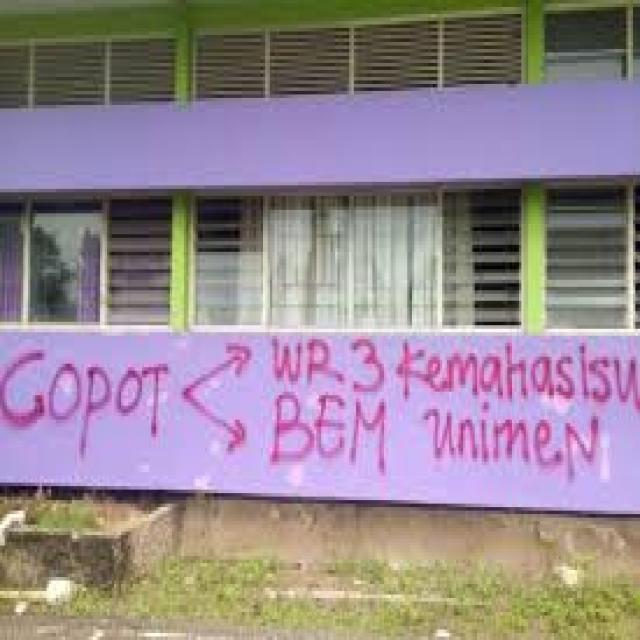-: (398, 337, 640, 480), (0, 346, 172, 454), (272, 337, 388, 480), (184, 340, 254, 452)
